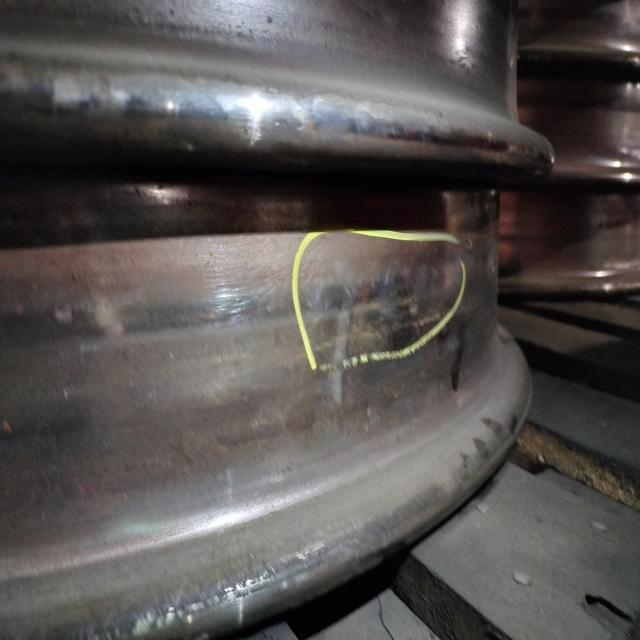flat: (295, 261, 468, 319)
